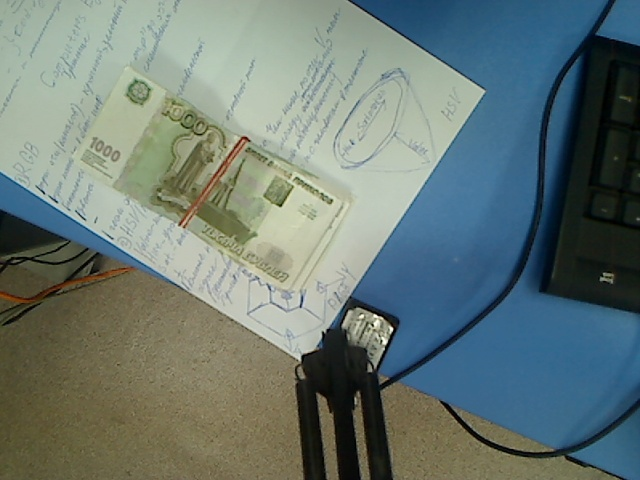banknotes: (69, 64, 355, 294)
